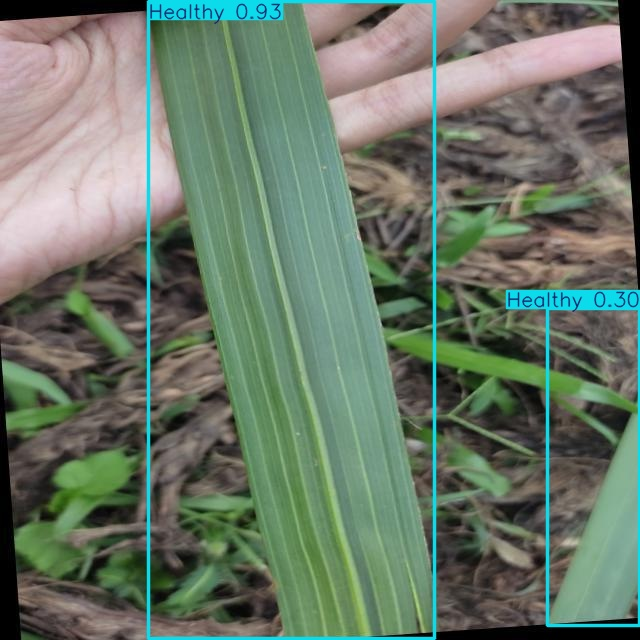Healthy: (148, 2, 434, 639), (547, 308, 640, 626)
